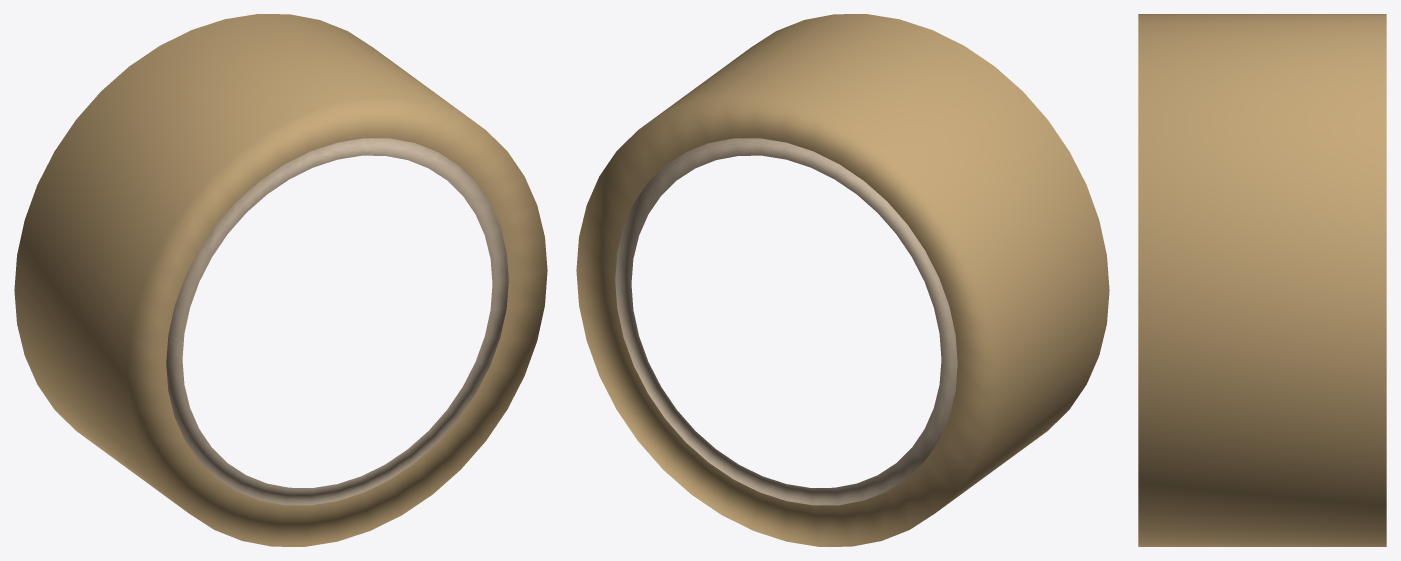
File: Stock__ManualShelfSouth1__Tote019__Goods0.glb
The picture shows the model from 3 angles, left to right: view 1: azimuth 30°, elevation 25°; view 2: azimuth 150°, elevation 25°; view 3: azimuth 270°, elevation 25°; orthographic projection. The views are drawn at different scales.
Visible parts, largest first — view 1: /World/Stock/ManualShelfSouth1/Tote019/Goods0/Visual/TapeBro, /World/Stock/ManualShelfSouth1/Tote019/Goods0/Visual/Cardboa; view 2: /World/Stock/ManualShelfSouth1/Tote019/Goods0/Visual/TapeBro, /World/Stock/ManualShelfSouth1/Tote019/Goods0/Visual/Cardboa; view 3: /World/Stock/ManualShelfSouth1/Tote019/Goods0/Visual/TapeBro.
Boxes of the visible parts, bbox=[...] form: /World/Stock/ManualShelfSouth1/Tote019/Goods0/Visual/TapeBro: bbox=[14, 14, 547, 546]; /World/Stock/ManualShelfSouth1/Tote019/Goods0/Visual/Cardboa: bbox=[166, 138, 508, 505]; /World/Stock/ManualShelfSouth1/Tote019/Goods0/Visual/TapeBro: bbox=[576, 14, 1109, 546]; /World/Stock/ManualShelfSouth1/Tote019/Goods0/Visual/Cardboa: bbox=[615, 138, 957, 505]; /World/Stock/ManualShelfSouth1/Tote019/Goods0/Visual/TapeBro: bbox=[1138, 14, 1386, 546].
Size of the model in its own units: 0.103 by 0.103 by 0.048.
Materials: 2 (1 with a texture image).
